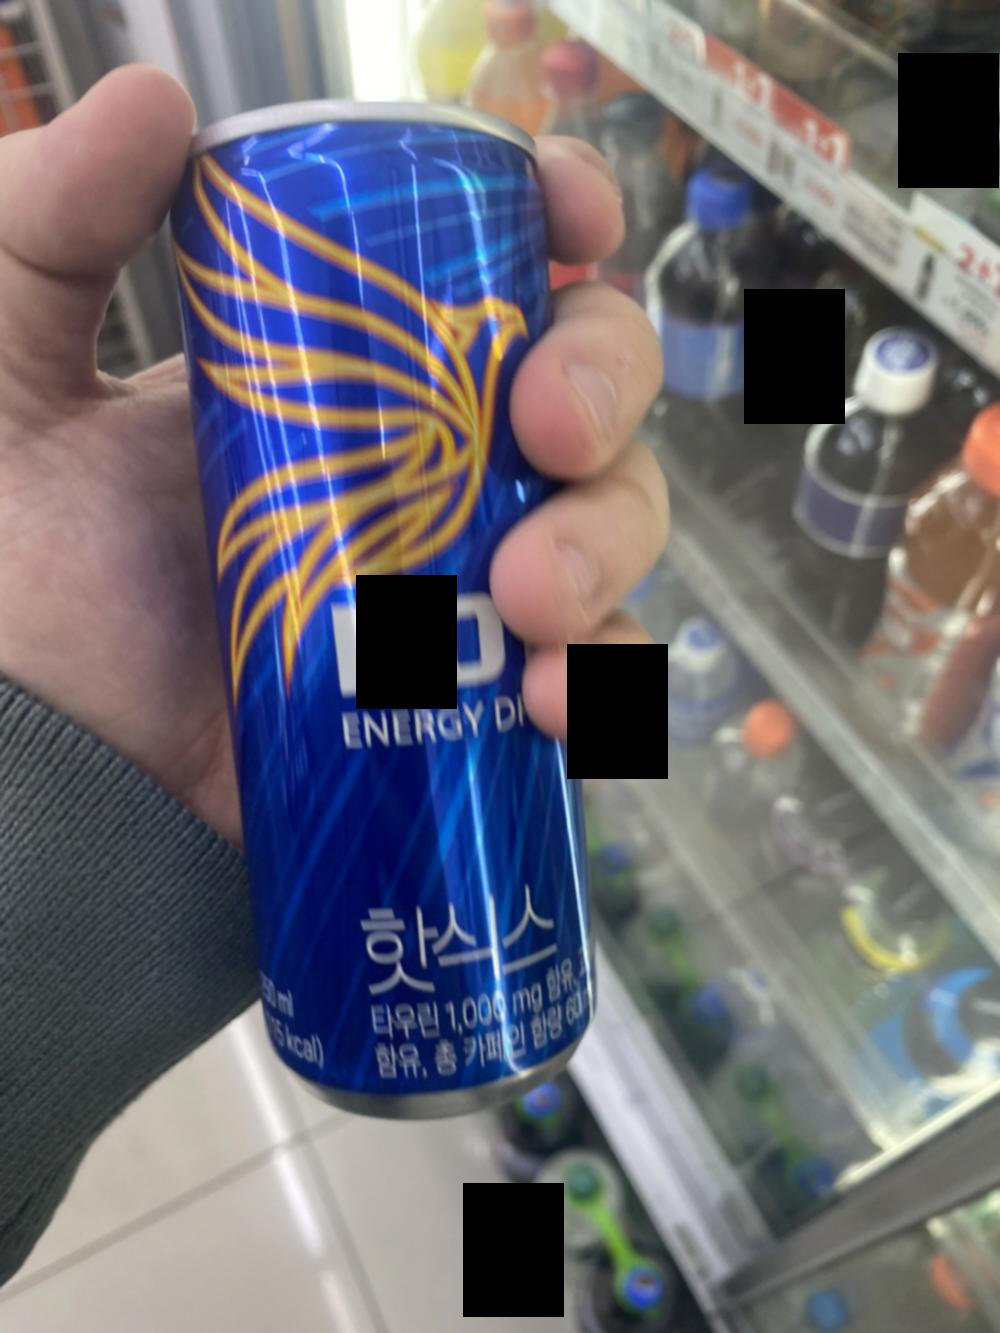hotsix_org: (175, 101, 603, 1075)
